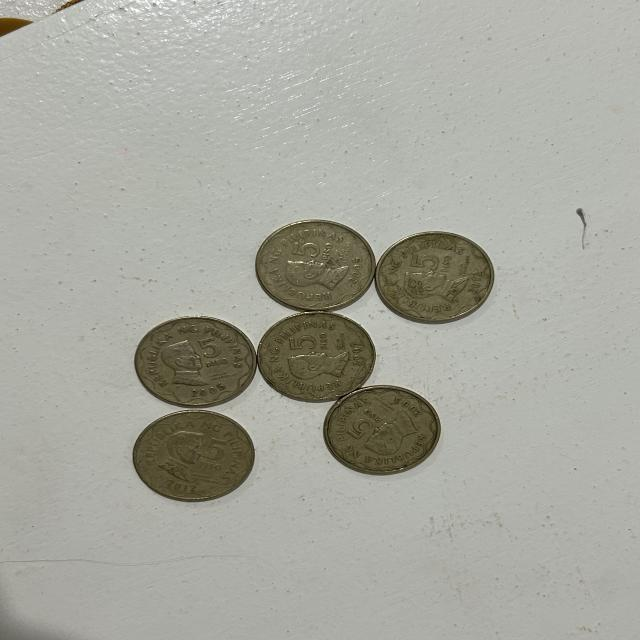5_Old_Front: (406, 248, 457, 280), (197, 433, 229, 473), (291, 238, 338, 265), (342, 406, 382, 436), (286, 332, 336, 353), (192, 338, 225, 368)
